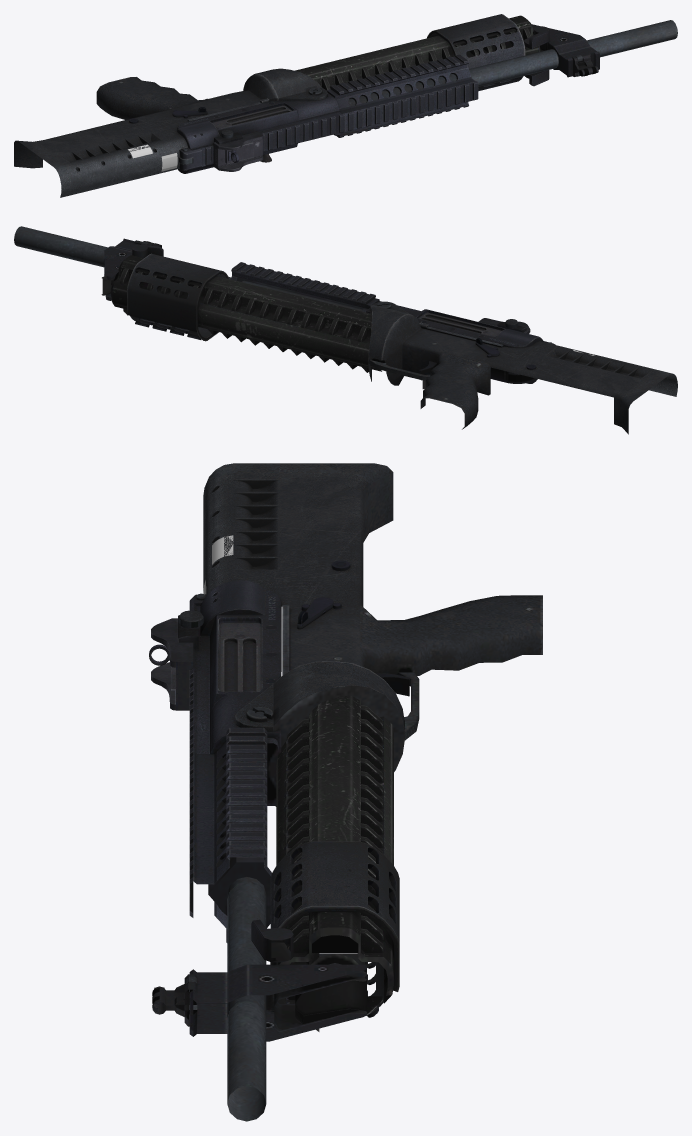
File: t6_wpn_shotty_srm1216_view_LOD0.obj
The picture shows the model from 3 angles, top to bottom: view 1: azimuth 30°, elevation 25°; view 2: azimuth 150°, elevation 25°; view 3: azimuth 270°, elevation 25°; orthographic projection. The views are drawn at different scales.
Parts seen in each view (by area): view 1: mtl_t6_wpn_shotty_srm1216_camo1, mtl_t6_wpn_shotty_srm1216_camo2, mtl_t6_wpn_shotty_srm1216_camo4, mtl_t6_wpn_shotty_srm1216_camo3; view 2: mtl_t6_wpn_shotty_srm1216_camo1, mtl_t6_wpn_shotty_srm1216_camo3, mtl_t6_wpn_shotty_srm1216_camo2, mtl_t6_wpn_shotty_srm1216_camo4; view 3: mtl_t6_wpn_shotty_srm1216_camo1, mtl_t6_wpn_shotty_srm1216_camo3, mtl_t6_wpn_shotty_srm1216_camo2, mtl_t6_wpn_shotty_srm1216_camo4.
Boxes of the visible parts, x1=… form: mtl_t6_wpn_shotty_srm1216_camo1: x1=14, y1=14, x2=598, y2=197; mtl_t6_wpn_shotty_srm1216_camo2: x1=177, y1=20, x2=677, y2=173; mtl_t6_wpn_shotty_srm1216_camo4: x1=77, y1=26, x2=599, y2=171; mtl_t6_wpn_shotty_srm1216_camo3: x1=295, y1=15, x2=540, y2=90; mtl_t6_wpn_shotty_srm1216_camo1: x1=104, y1=238, x2=677, y2=434; mtl_t6_wpn_shotty_srm1216_camo3: x1=111, y1=255, x2=381, y2=372; mtl_t6_wpn_shotty_srm1216_camo2: x1=14, y1=226, x2=543, y2=383; mtl_t6_wpn_shotty_srm1216_camo4: x1=101, y1=241, x2=552, y2=369; mtl_t6_wpn_shotty_srm1216_camo1: x1=149, y1=463, x2=542, y2=1041; mtl_t6_wpn_shotty_srm1216_camo3: x1=276, y1=695, x2=393, y2=1031; mtl_t6_wpn_shotty_srm1216_camo2: x1=151, y1=580, x2=281, y2=1121; mtl_t6_wpn_shotty_srm1216_camo4: x1=171, y1=492, x2=366, y2=1036.
Bounding box in the file's own units: 78.28 × 8.67 × 21.45.
